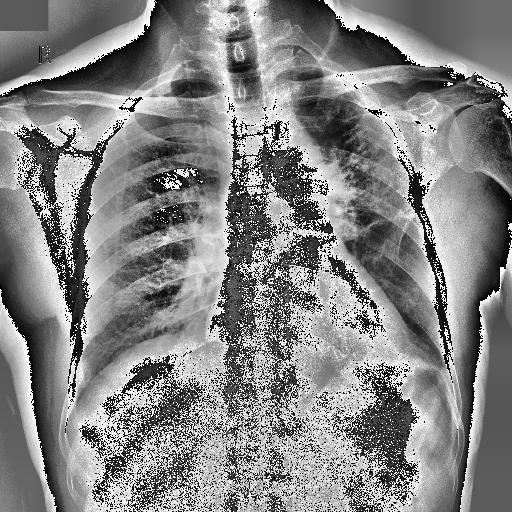13- Pulmonary fibrosis: (299, 84, 420, 244), (318, 110, 410, 236)
3- Cardiomegaly: (199, 301, 422, 375), (204, 303, 420, 357), (202, 318, 422, 358)
6- Infiltration: (299, 84, 420, 244), (318, 110, 410, 236)
7- Lung Opacity: (298, 109, 406, 229)
